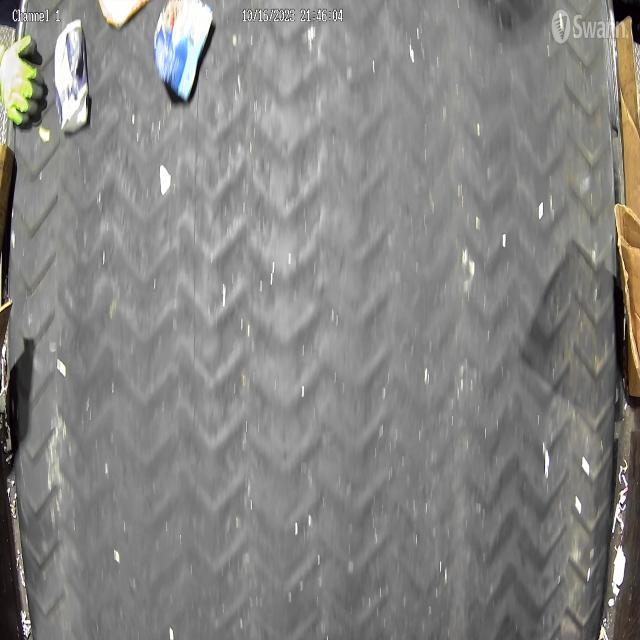can: (153, 0, 213, 102)
